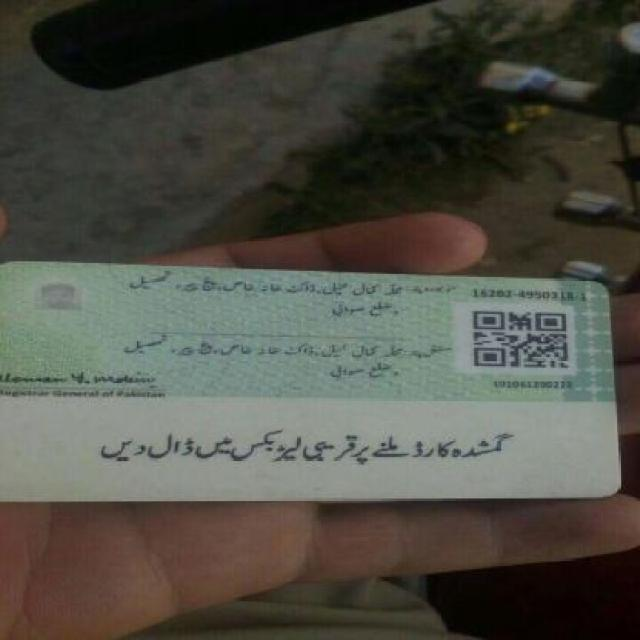Back: (6, 251, 634, 512)
